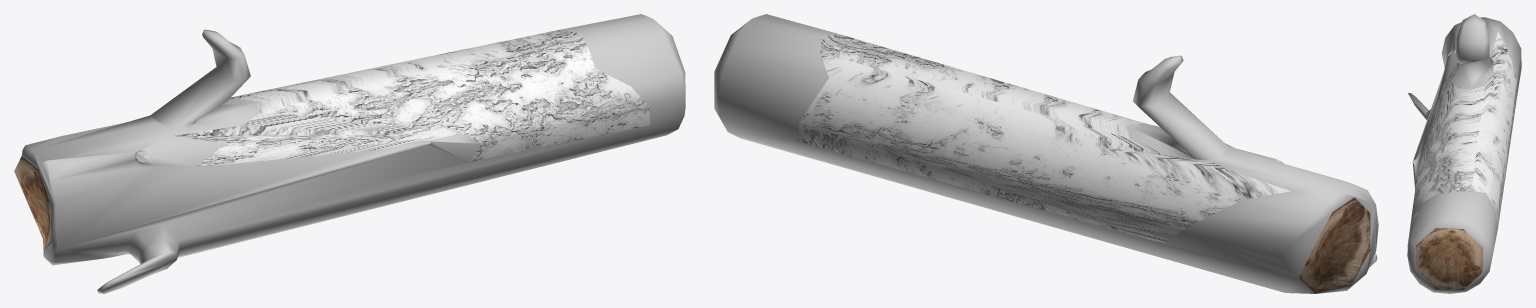
The model's file is troncoObstaculoNieve.fbx.
3 views of the same model, side by side, from view 1: azimuth 30°, elevation 25°; view 2: azimuth 150°, elevation 25°; view 3: azimuth 270°, elevation 25° (orthographic). The views are drawn at different scales.
Visible parts, largest first — view 1: Cilindro; view 2: Cilindro; view 3: Cilindro.
Boxes of the visible parts, x1,y1,x2,y2 form: Cilindro: (14,14,685,293); Cilindro: (714,14,1378,293); Cilindro: (1407,14,1521,293).
Size of the model in its own units: 1.02 by 0.337 by 0.2359.
